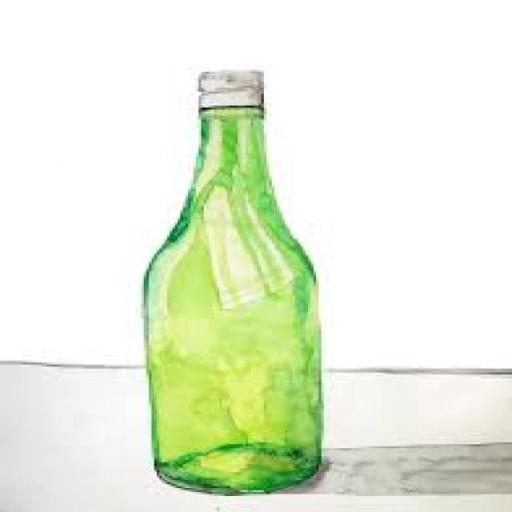glass: (126, 64, 346, 512)
